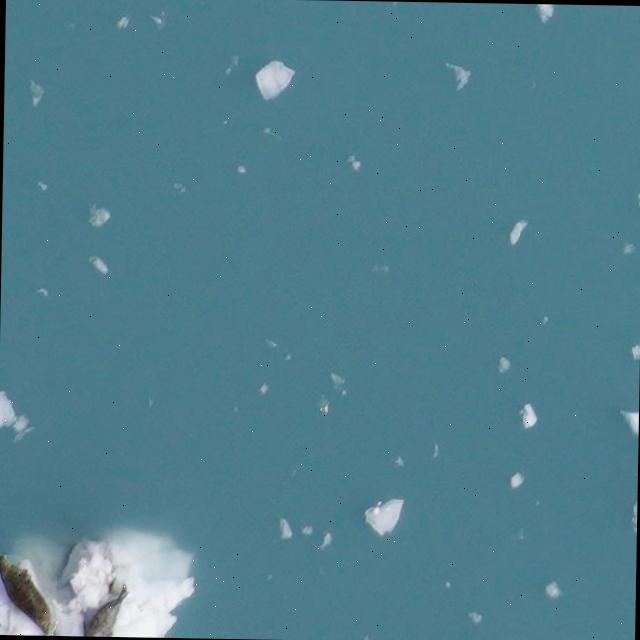seal: (0, 547, 65, 640), (83, 576, 132, 640)
